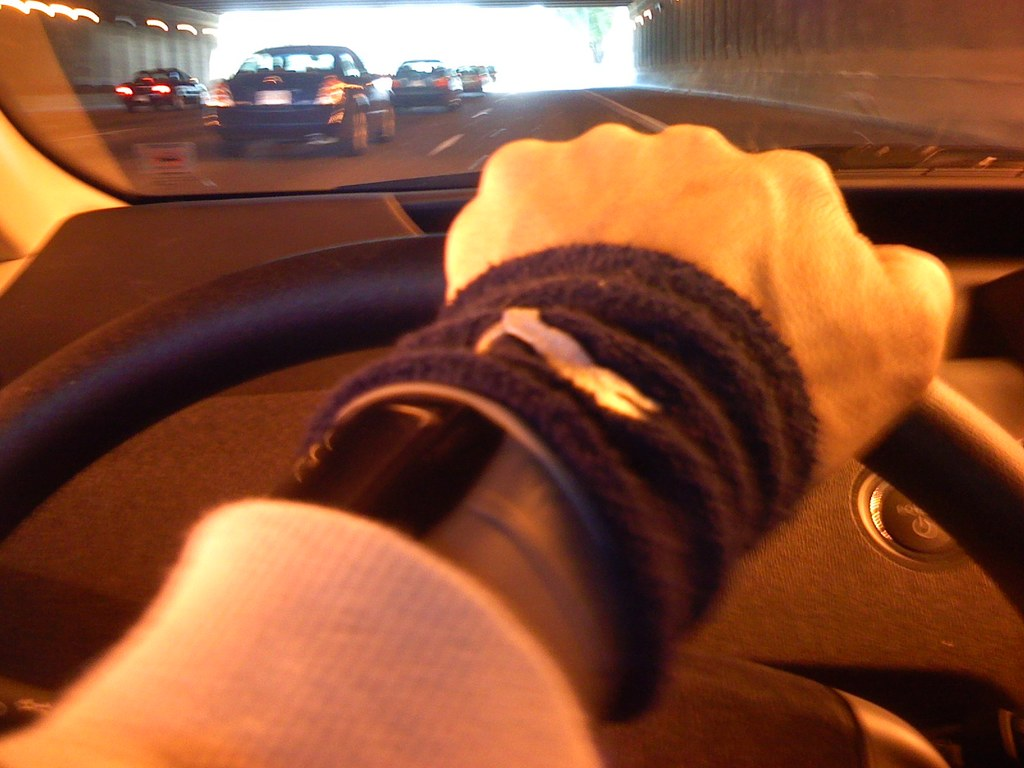Car: (0, 0, 1023, 760), (210, 41, 394, 156), (110, 66, 206, 113), (389, 57, 456, 113), (455, 60, 481, 91)
